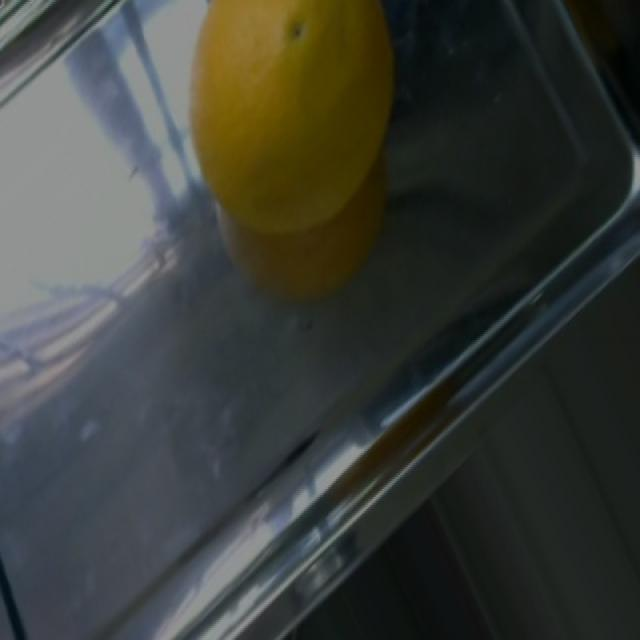Fruit: (167, 2, 417, 328)
